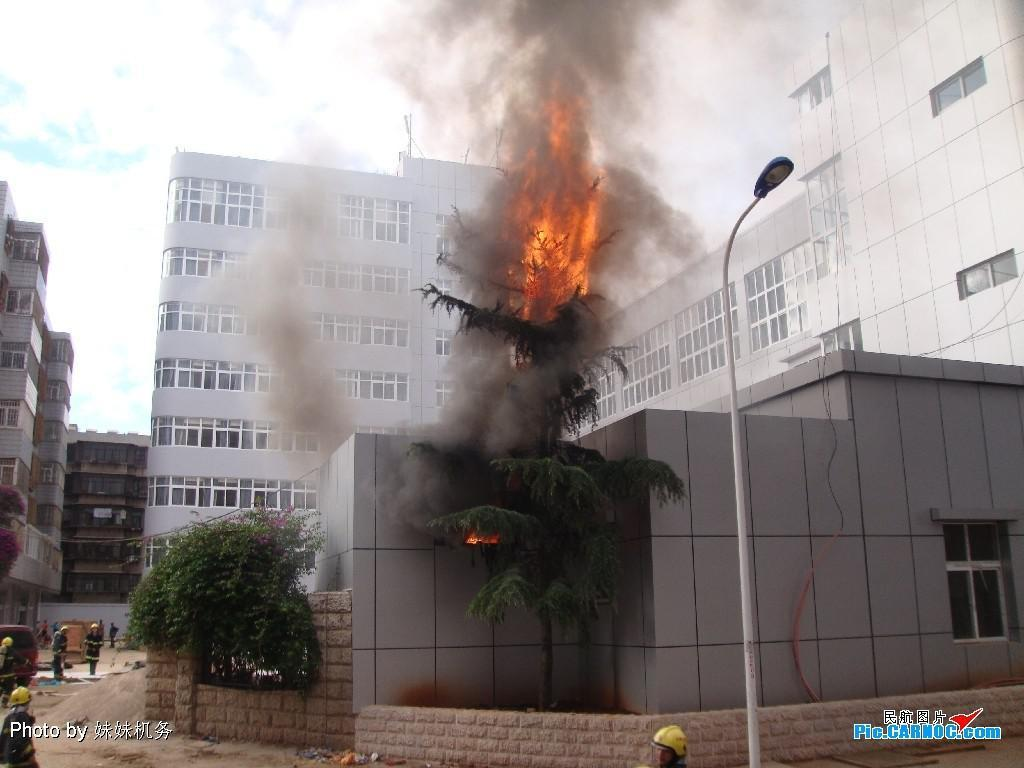fire: (489, 96, 616, 329), (452, 527, 497, 549)
